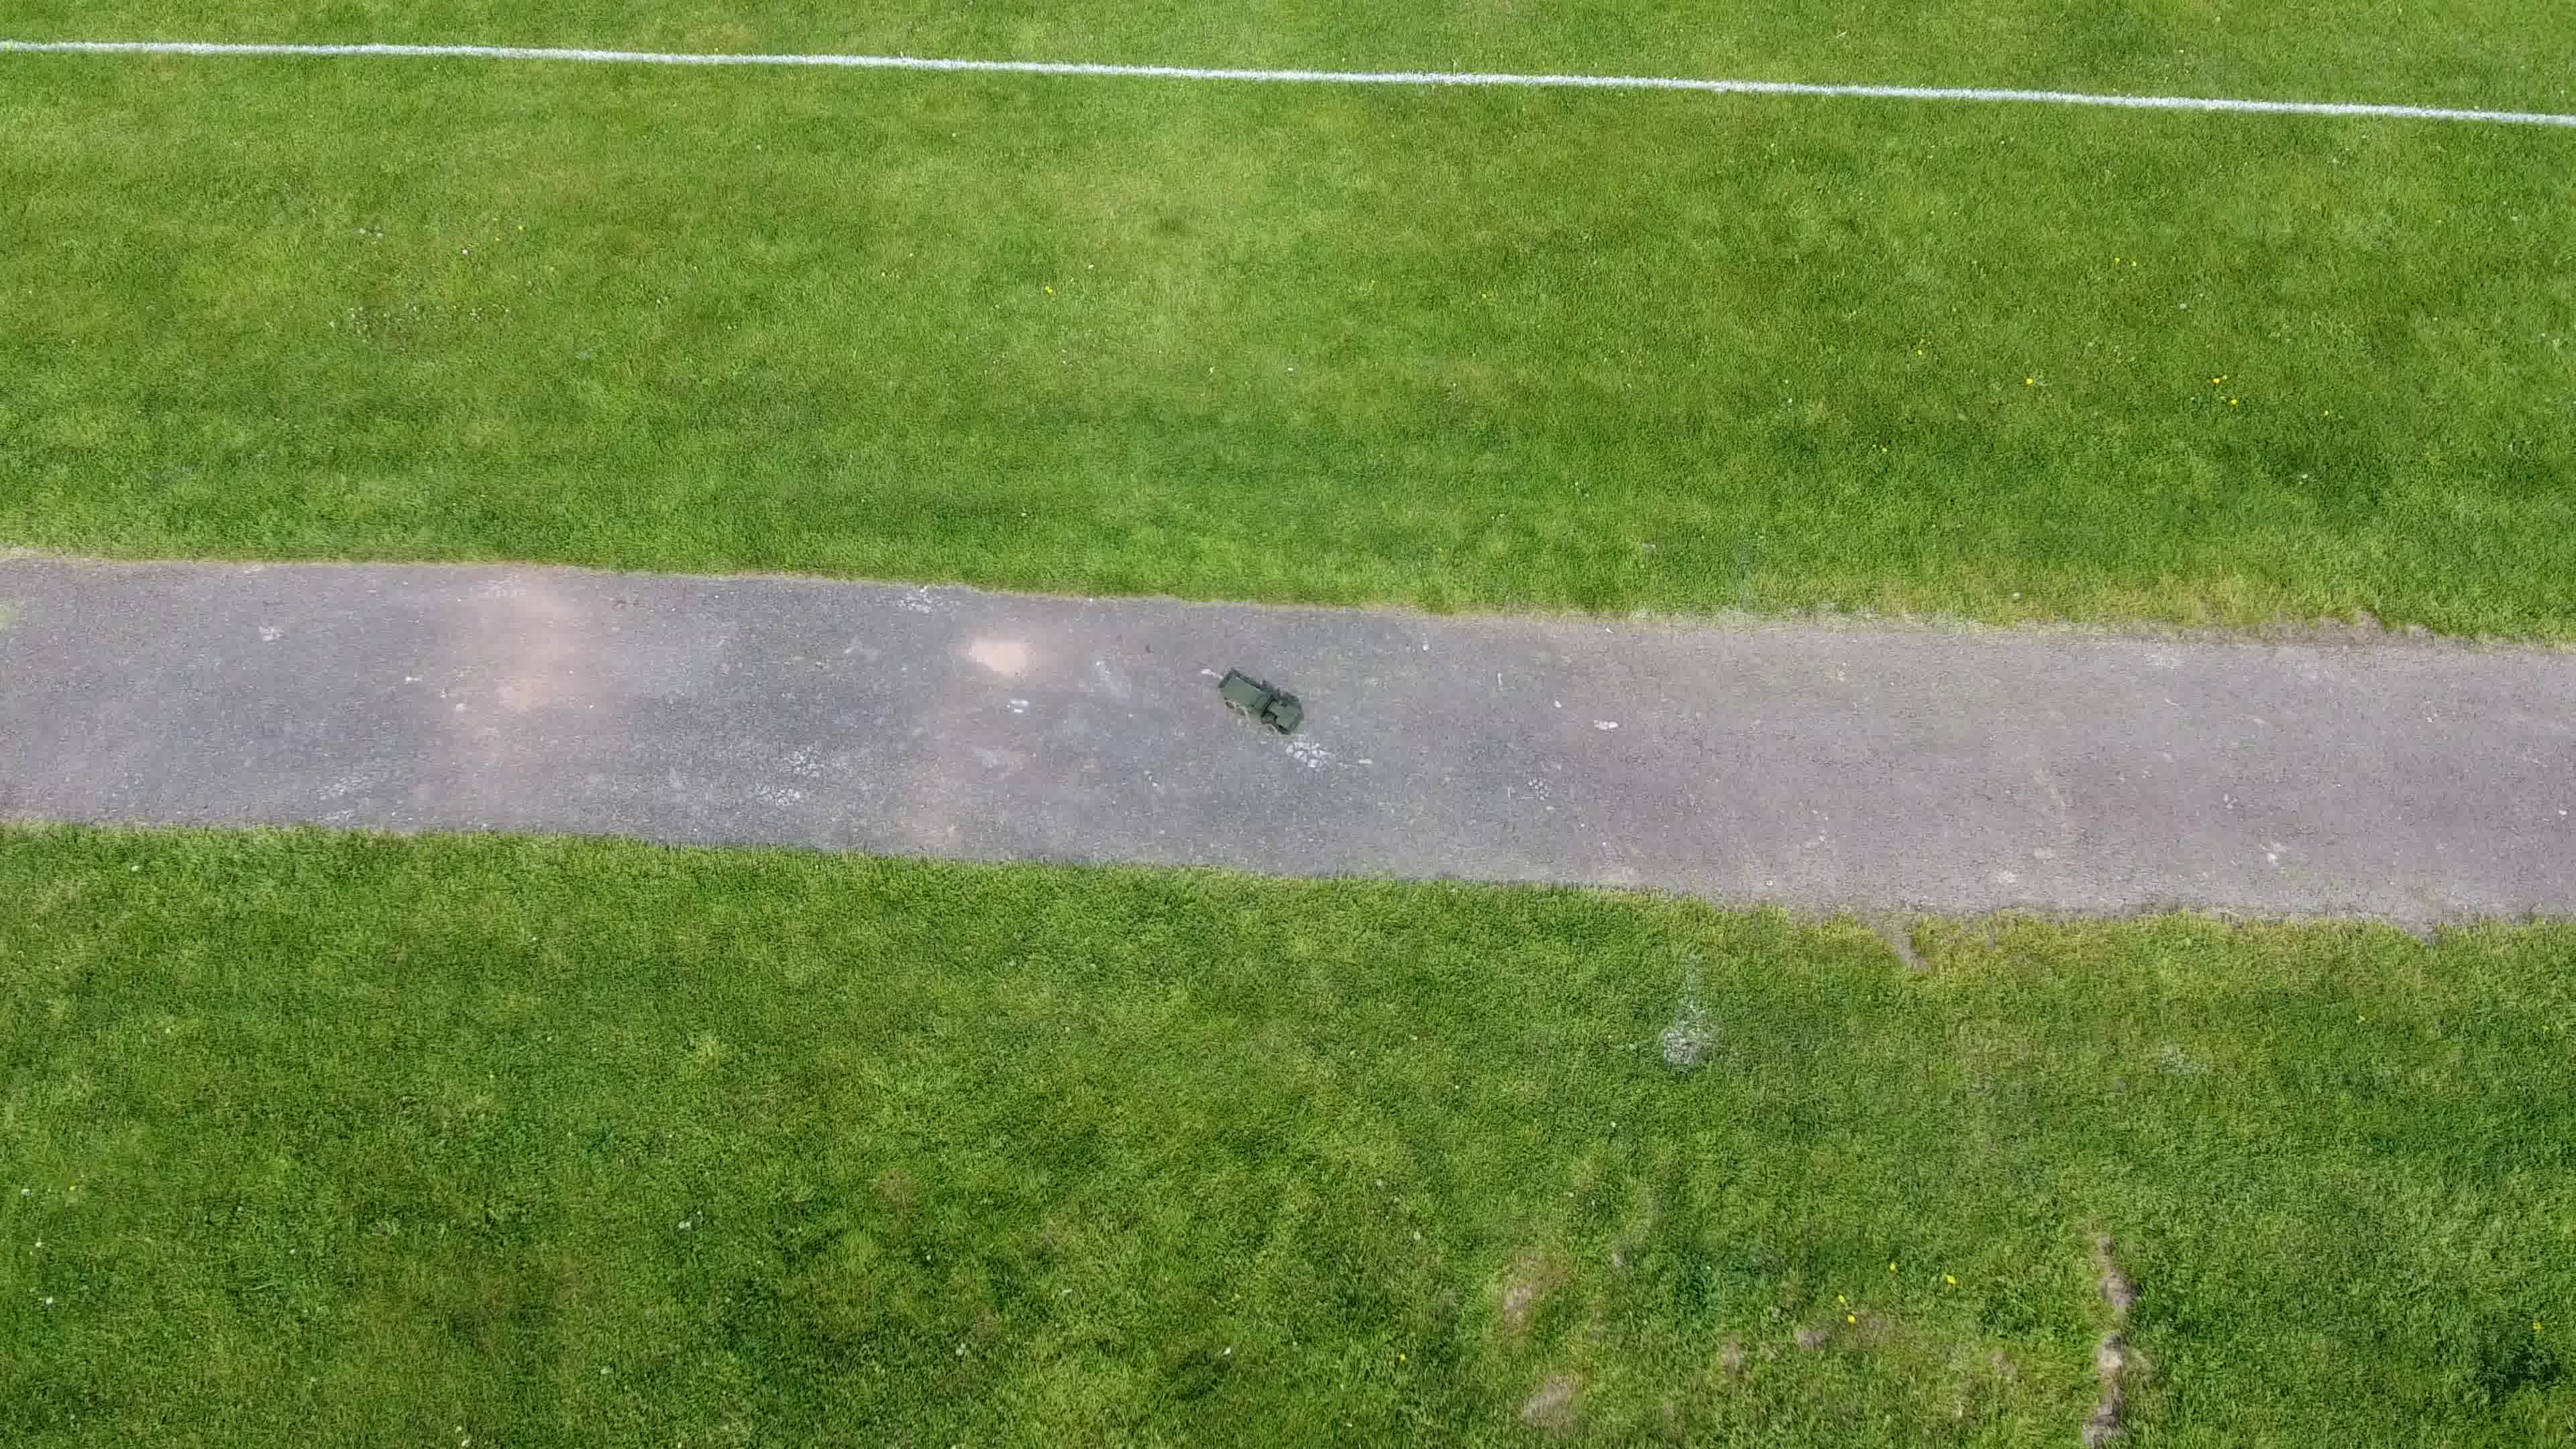transporter9: (1215, 669, 1304, 738)
